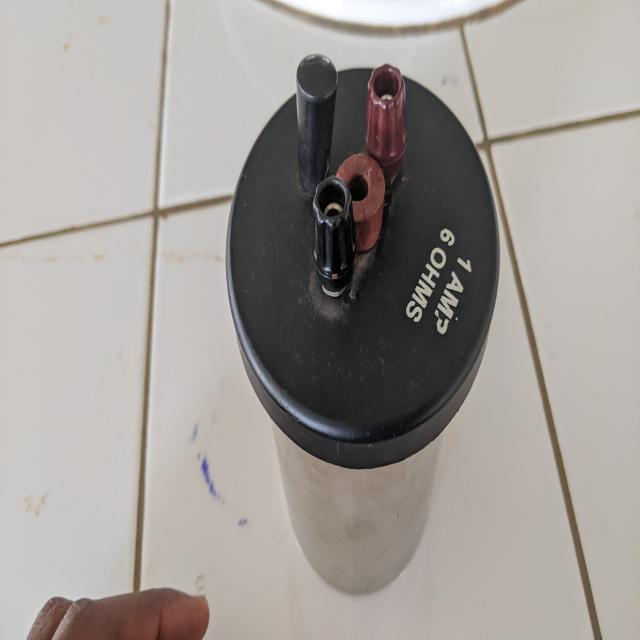Joule-s Calorimeter: (225, 40, 514, 606)
